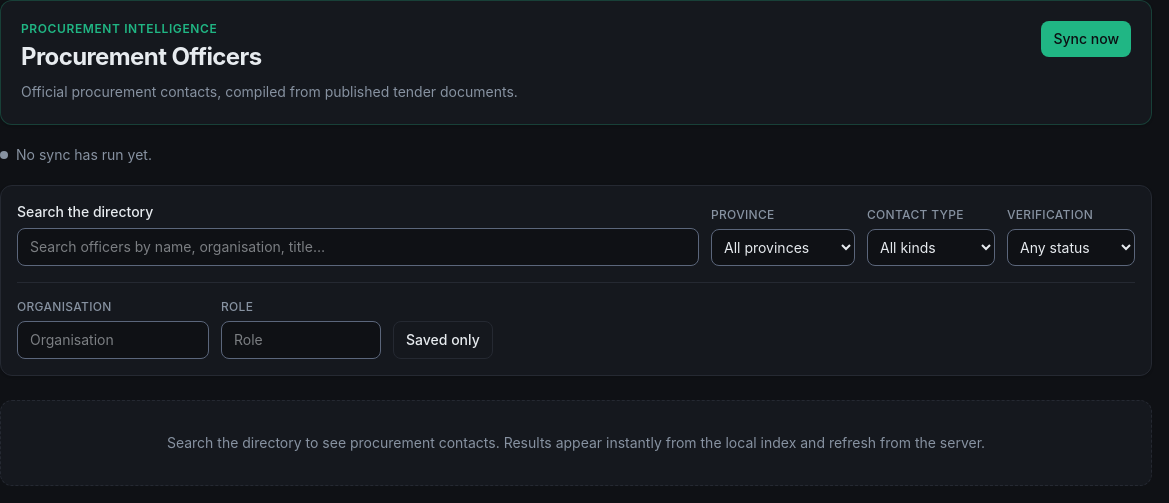
Scenario: ProcurementOfficerDirectory shell › shows an honest empty state when nothing matches
In the search field named "Search officers": (358, 247) [17,228,699,266], type "zzz"
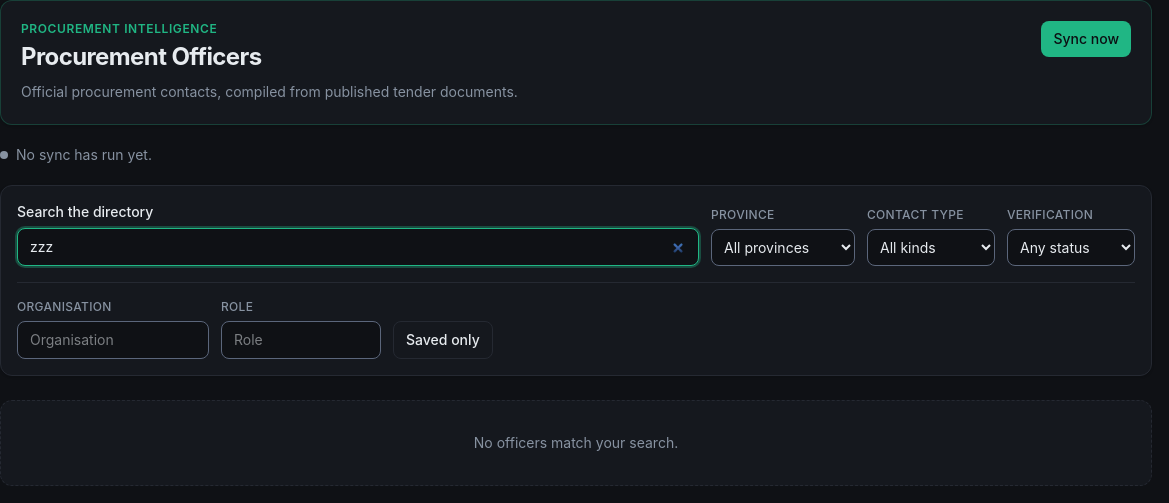
Now the text "No officers match your search." is shown, box [0,400,1152,486]
